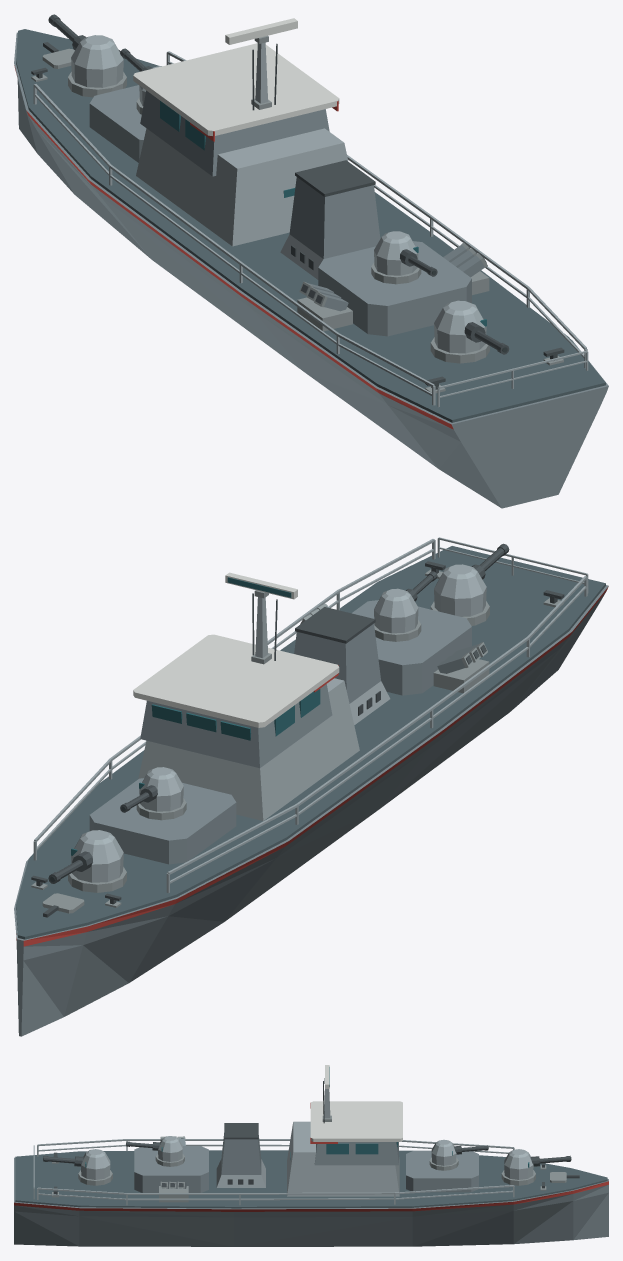
File: EnemyPccCorvette.fbx
3 renders of one model, top to bottom at view 1: azimuth 30°, elevation 25°; view 2: azimuth 150°, elevation 25°; view 3: azimuth 270°, elevation 25°, orthographic. The views are drawn at different scales.
Visible parts, largest first — view 1: PCCHull_InsetContinuousDeck, PCCHull_HardChineShell, PCCBridge_SupportedDeckHouse, PCCBridge_OverhangingRoof, AftSuperfiringGunDeck, PCCFunnel_Stack, PCCBridge_Wheelhouse, ForeSuperfiringGunDeck, PCCForeGun01_ArmouredTurret, PCCAftGun01_ArmouredTurret, PCCFunnel_ExhaustCap, PCCAftGun02_ArmouredTurret (+6 smaller); view 2: PCCHull_InsetContinuousDeck, PCCHull_HardChineShell, PCCBridge_OverhangingRoof, PCCBridge_SupportedDeckHouse, ForeSuperfiringGunDeck, PCCBridge_Wheelhouse, AftSuperfiringGunDeck, PCCFunnel_Stack, PCCAftGun01_ArmouredTurret, PCCForeGun01_ArmouredTurret, PCCFunnel_ExhaustCap, PCCAftGun02_ArmouredTurret (+6 smaller); view 3: PCCHull_HardChineShell, PCCHull_InsetContinuousDeck, PCCBridge_SupportedDeckHouse, PCCBridge_OverhangingRoof, AftSuperfiringGunDeck, ForeSuperfiringGunDeck, PCCBridge_Wheelhouse, PCCFunnel_Stack, PCCForeGun01_ArmouredTurret, PCCAftGun01_ArmouredTurret, PCCFunnel_EngineCasing, PCCFunnel_ExhaustCap (+9 smaller).
Boxes of the visible parts, x1,y1,x2,y2 form: PCCHull_InsetContinuousDeck: [16, 29, 605, 422]; PCCHull_HardChineShell: [14, 32, 608, 508]; PCCBridge_SupportedDeckHouse: [136, 128, 348, 246]; PCCBridge_OverhangingRoof: [133, 43, 339, 135]; AftSuperfiringGunDeck: [318, 241, 471, 336]; PCCFunnel_Stack: [289, 177, 380, 258]; PCCBridge_Wheelhouse: [140, 90, 329, 176]; ForeSuperfiringGunDeck: [89, 85, 146, 162]; PCCForeGun01_ArmouredTurret: [71, 35, 123, 87]; PCCAftGun01_ArmouredTurret: [434, 300, 486, 353]; PCCFunnel_ExhaustCap: [295, 160, 375, 196]; PCCAftGun02_ArmouredTurret: [374, 231, 418, 275]; PCCHull_InsetContinuousDeck: [16, 546, 605, 939]; PCCHull_HardChineShell: [14, 585, 608, 1036]; PCCBridge_OverhangingRoof: [133, 634, 339, 727]; PCCBridge_SupportedDeckHouse: [138, 678, 359, 820]; ForeSuperfiringGunDeck: [89, 778, 236, 864]; PCCBridge_Wheelhouse: [140, 684, 332, 768]; AftSuperfiringGunDeck: [352, 600, 471, 695]; PCCFunnel_Stack: [294, 623, 380, 703]; PCCAftGun01_ArmouredTurret: [434, 564, 486, 616]; PCCForeGun01_ArmouredTurret: [71, 830, 123, 882]; PCCFunnel_ExhaustCap: [295, 607, 375, 643]; PCCAftGun02_ArmouredTurret: [374, 588, 418, 633]; PCCHull_HardChineShell: [14, 1157, 608, 1246]; PCCHull_InsetContinuousDeck: [15, 1150, 607, 1208]; PCCBridge_SupportedDeckHouse: [287, 1121, 399, 1196]; PCCBridge_OverhangingRoof: [310, 1101, 402, 1141]; AftSuperfiringGunDeck: [134, 1146, 208, 1192]; ForeSuperfiringGunDeck: [406, 1150, 478, 1192]; PCCBridge_Wheelhouse: [314, 1142, 398, 1165]; PCCFunnel_Stack: [221, 1133, 261, 1174]; PCCForeGun01_ArmouredTurret: [504, 1149, 533, 1179]; PCCAftGun01_ArmouredTurret: [81, 1149, 110, 1179]; PCCFunnel_EngineCasing: [216, 1159, 265, 1187]; PCCFunnel_ExhaustCap: [224, 1123, 258, 1139].
Bounding box in the file's own units: 324 × 420 × 1400.
